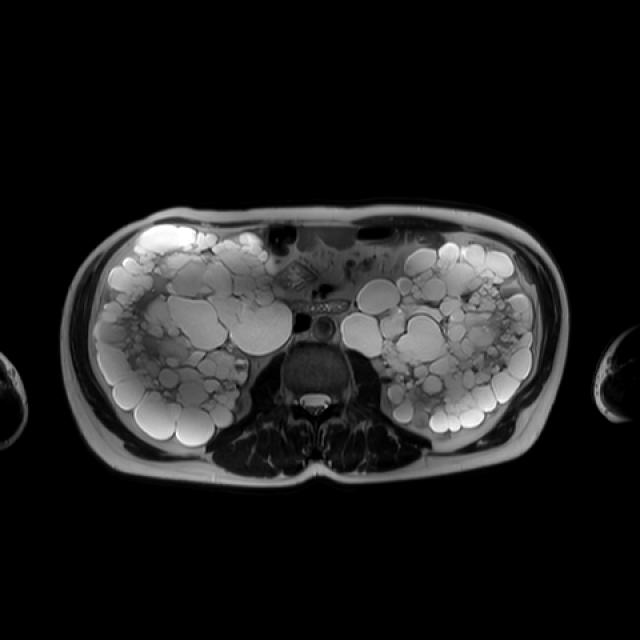sag: (90, 224, 294, 448)
sol: (339, 241, 536, 439)
